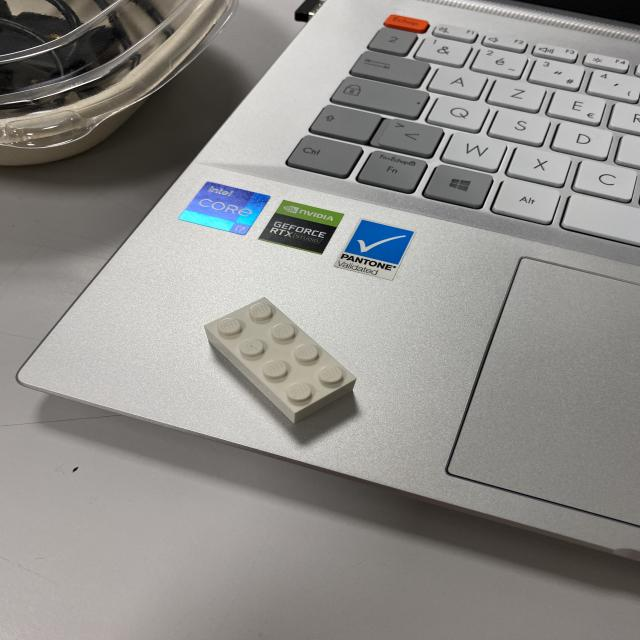C4x2x1: (206, 295, 355, 407), (205, 329, 296, 422)
